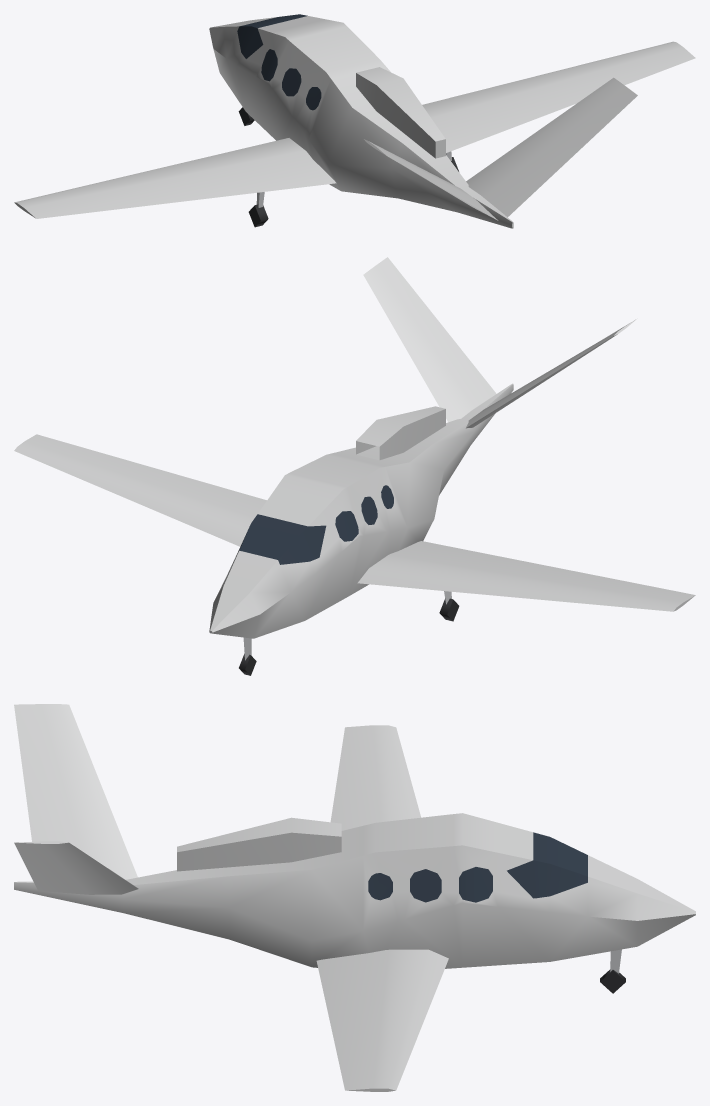
The model's file is Cirrus_Vision_Jet_LOD1.glb.
3 renders of one model, top to bottom at view 1: azimuth 30°, elevation 25°; view 2: azimuth 150°, elevation 25°; view 3: azimuth 270°, elevation 25°, orthographic. The views are drawn at different scales.
Visible parts, largest first — view 1: Fuselage, Wing_Left, Wing_Right, VTail_Right, Nacelle, VTail_Left; view 2: Fuselage, Wing_Left, Wing_Right, VTail_Right, Nacelle, VTail_Left; view 3: Fuselage, Wing_Right, VTail_Left, Wing_Left, Nacelle, VTail_Right.
Boxes of the visible parts, x1,y1,x2,y2 form: Fuselage: (209, 14, 513, 228); Wing_Left: (14, 138, 336, 218); Wing_Right: (422, 41, 695, 152); VTail_Right: (466, 77, 637, 217); Nacelle: (356, 67, 445, 158); VTail_Left: (364, 139, 498, 220); Fuselage: (209, 383, 513, 638); Wing_Left: (357, 541, 695, 611); Wing_Right: (14, 434, 266, 546); VTail_Right: (363, 257, 496, 422); Nacelle: (356, 406, 445, 460); VTail_Left: (466, 318, 637, 428); Fuselage: (14, 813, 695, 968); Wing_Right: (316, 949, 448, 1091); VTail_Left: (14, 704, 137, 879); Wing_Left: (330, 725, 420, 830); Nacelle: (177, 817, 341, 871); VTail_Right: (14, 841, 138, 894).
Bounding box in the file's own units: 11.8 × 3.32 × 9.36.
